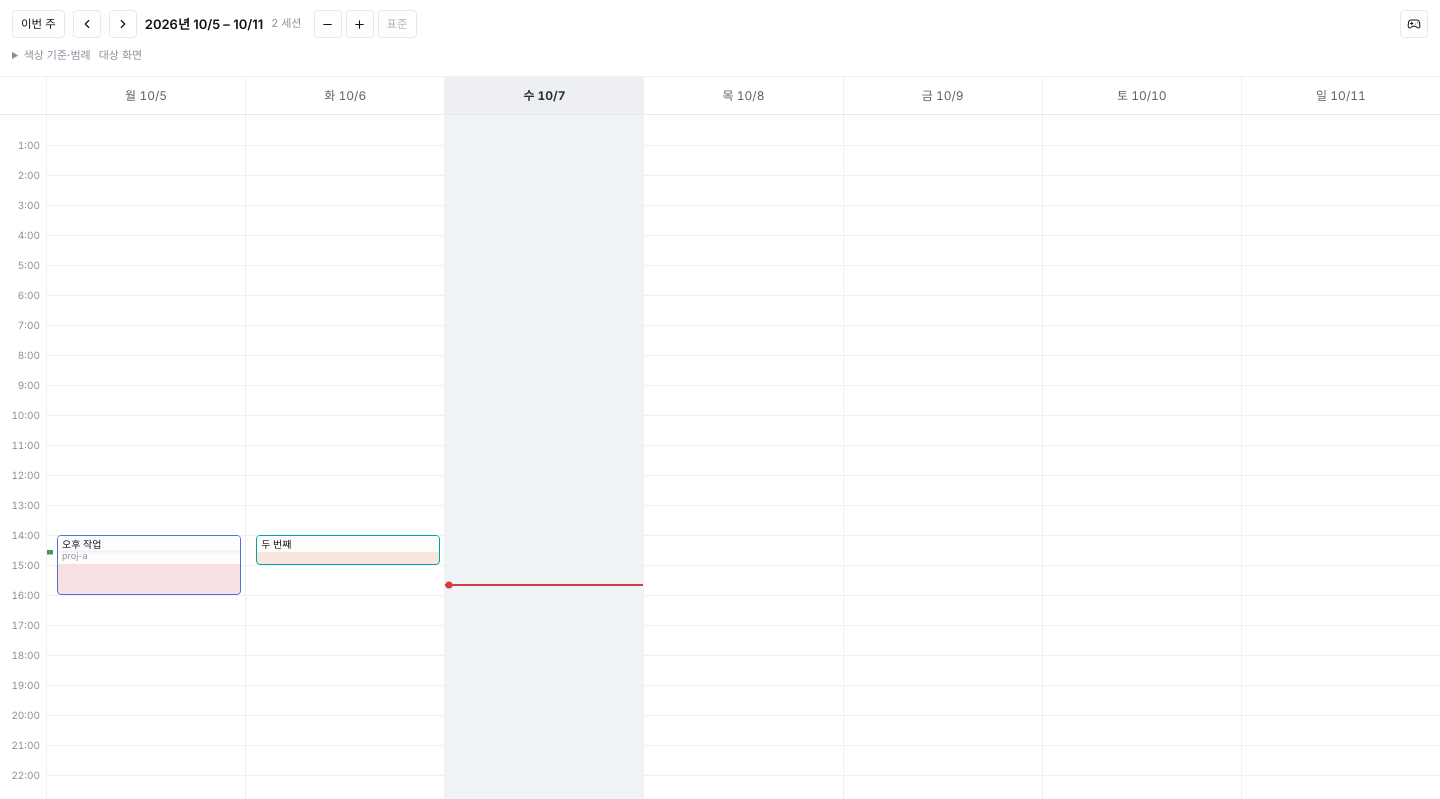
Test: 색 기준과 범례 › 색상 기준과 범례는 기본으로 접히고 주 이동은 바로 사용할 수 있다
Expected: the button named "이전 주" is shown, [73,10,101,38]
Click the text "색상 기준·범례" at (57, 55), box [24,48,91,62]
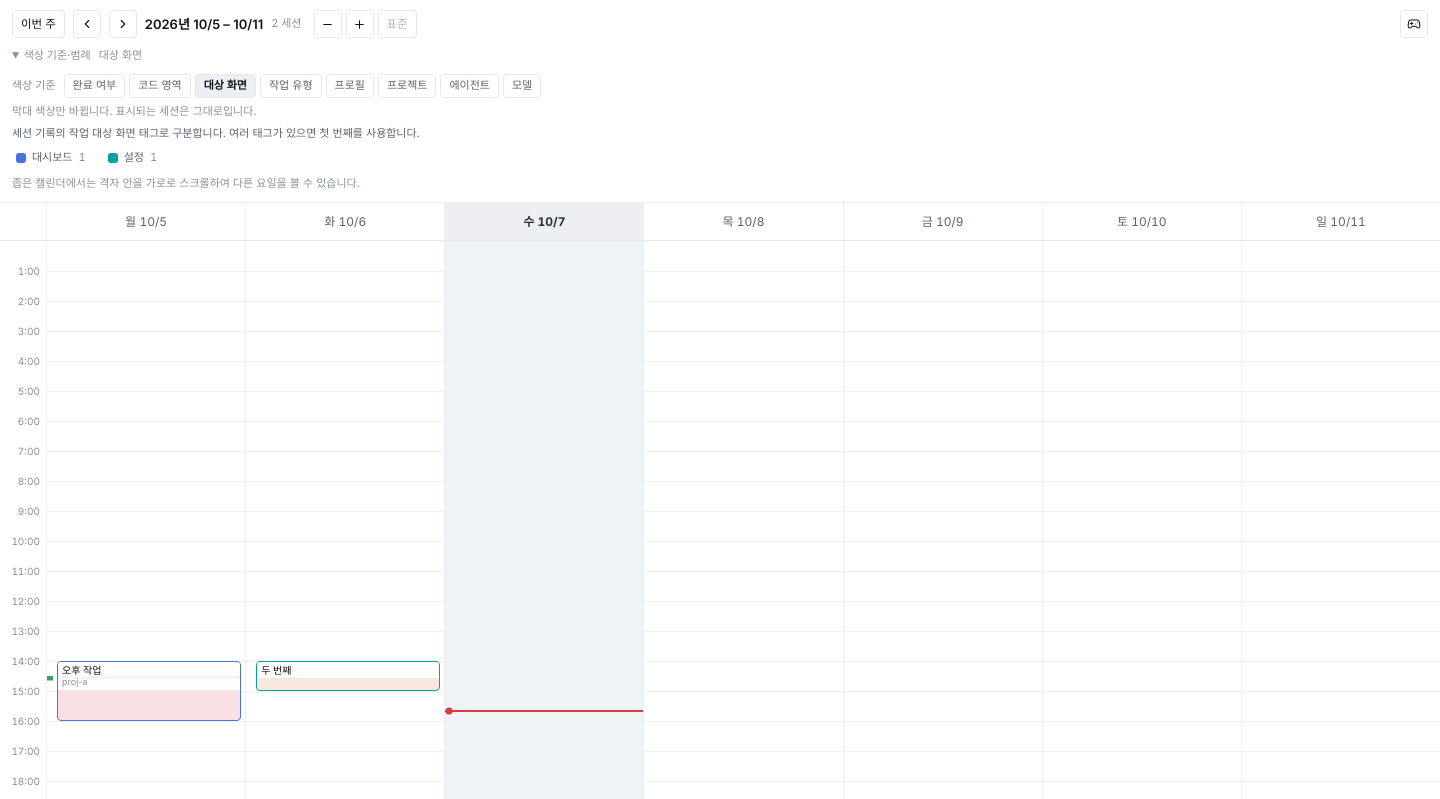
Result: the list named "범례" is shown at [12,148,161,168]
Result: the text "막대 색상만 바뀝니다. 표시되는 세션은 그대로입니다." is shown at [12,104,256,118]
